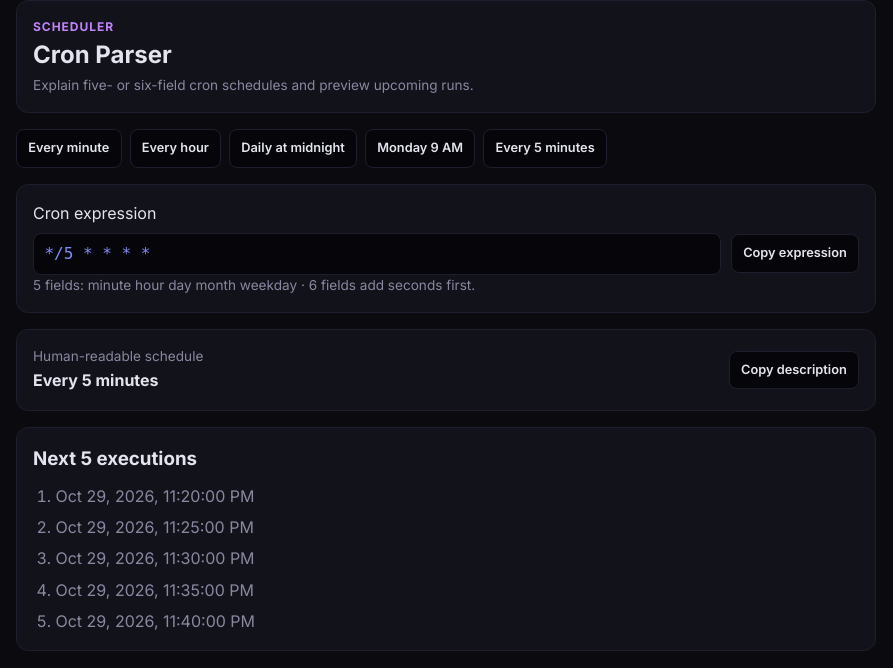
Scenario: CronTool › updates the explanation when a preset is selected
The image size is (893, 668).
Click the button "Monday 9 AM". click: x=420, y=149
box: [365,129,475,168]
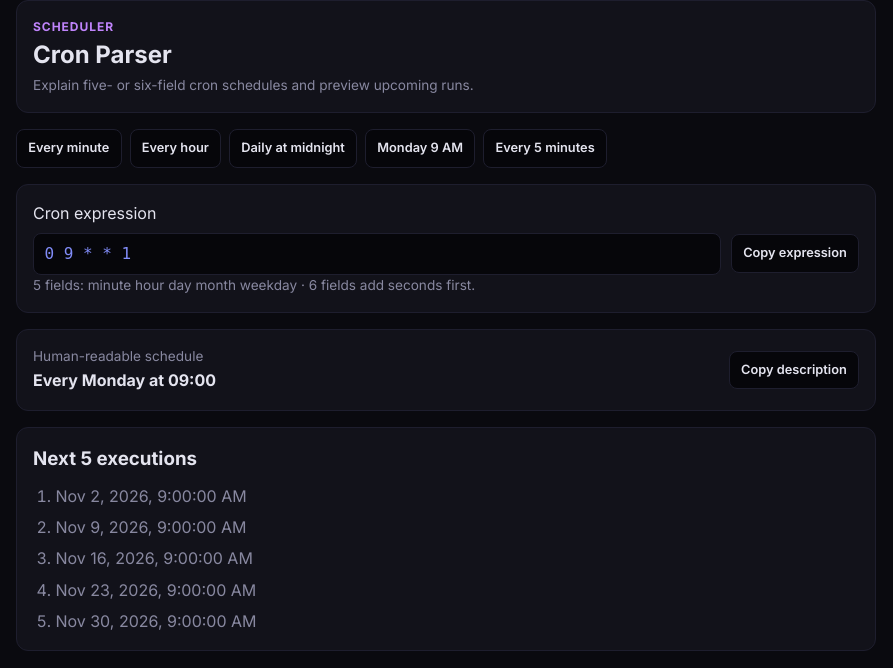
Check: the field labelled "Cron expression" holds "0 9 * * 1", box [33,233,721,275]
Check: the text "Every Monday at 09:00" is shown, box [33,368,216,394]
